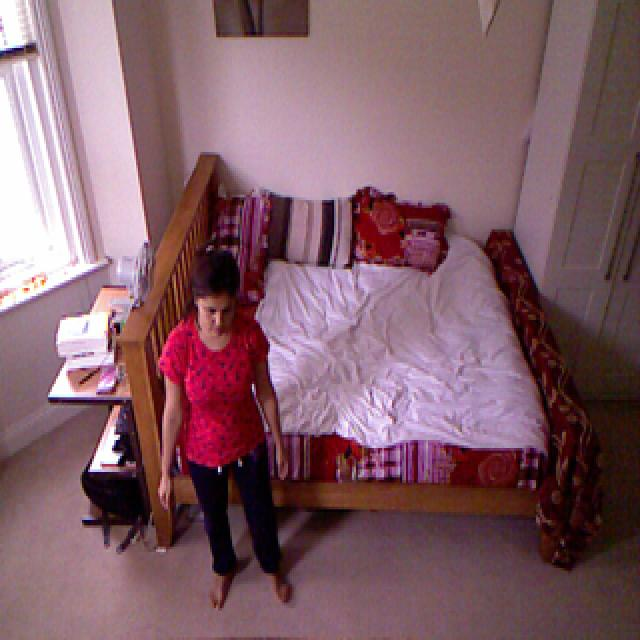standing: (158, 252, 299, 614)
